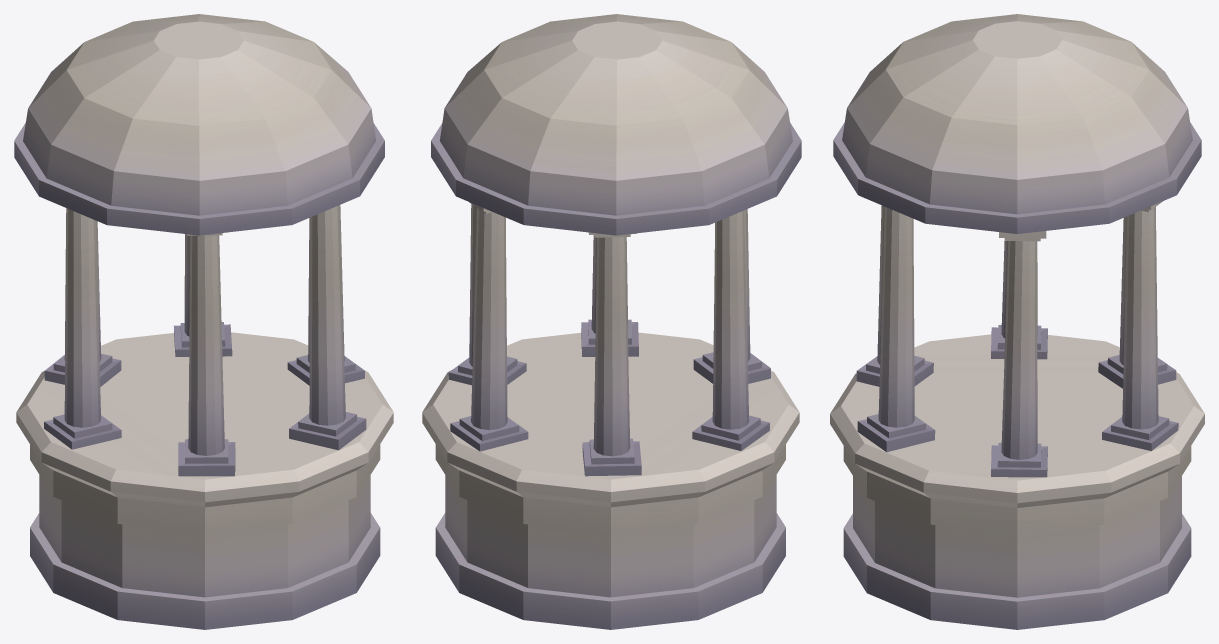
The model's file is Shrine.fbx.
3 views of the same model, side by side, from view 1: azimuth 30°, elevation 25°; view 2: azimuth 150°, elevation 25°; view 3: azimuth 270°, elevation 25° (orthographic).
Parts seen in each view (by area): view 1: Shrine; view 2: Shrine; view 3: Shrine.
Boxes of the visible parts, x1,y1,x2,y2 form: Shrine: (14,14,393,629); Shrine: (422,14,801,629); Shrine: (830,14,1204,629).
Size of the model in its own units: 444 by 666 by 440.
